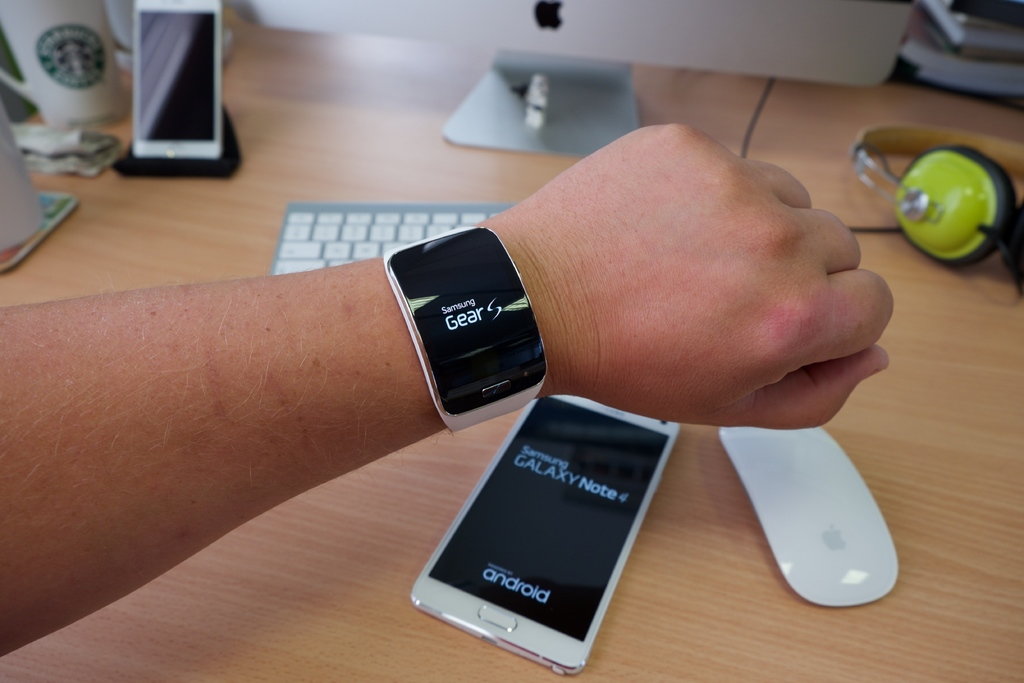watch: (382, 225, 545, 427)
